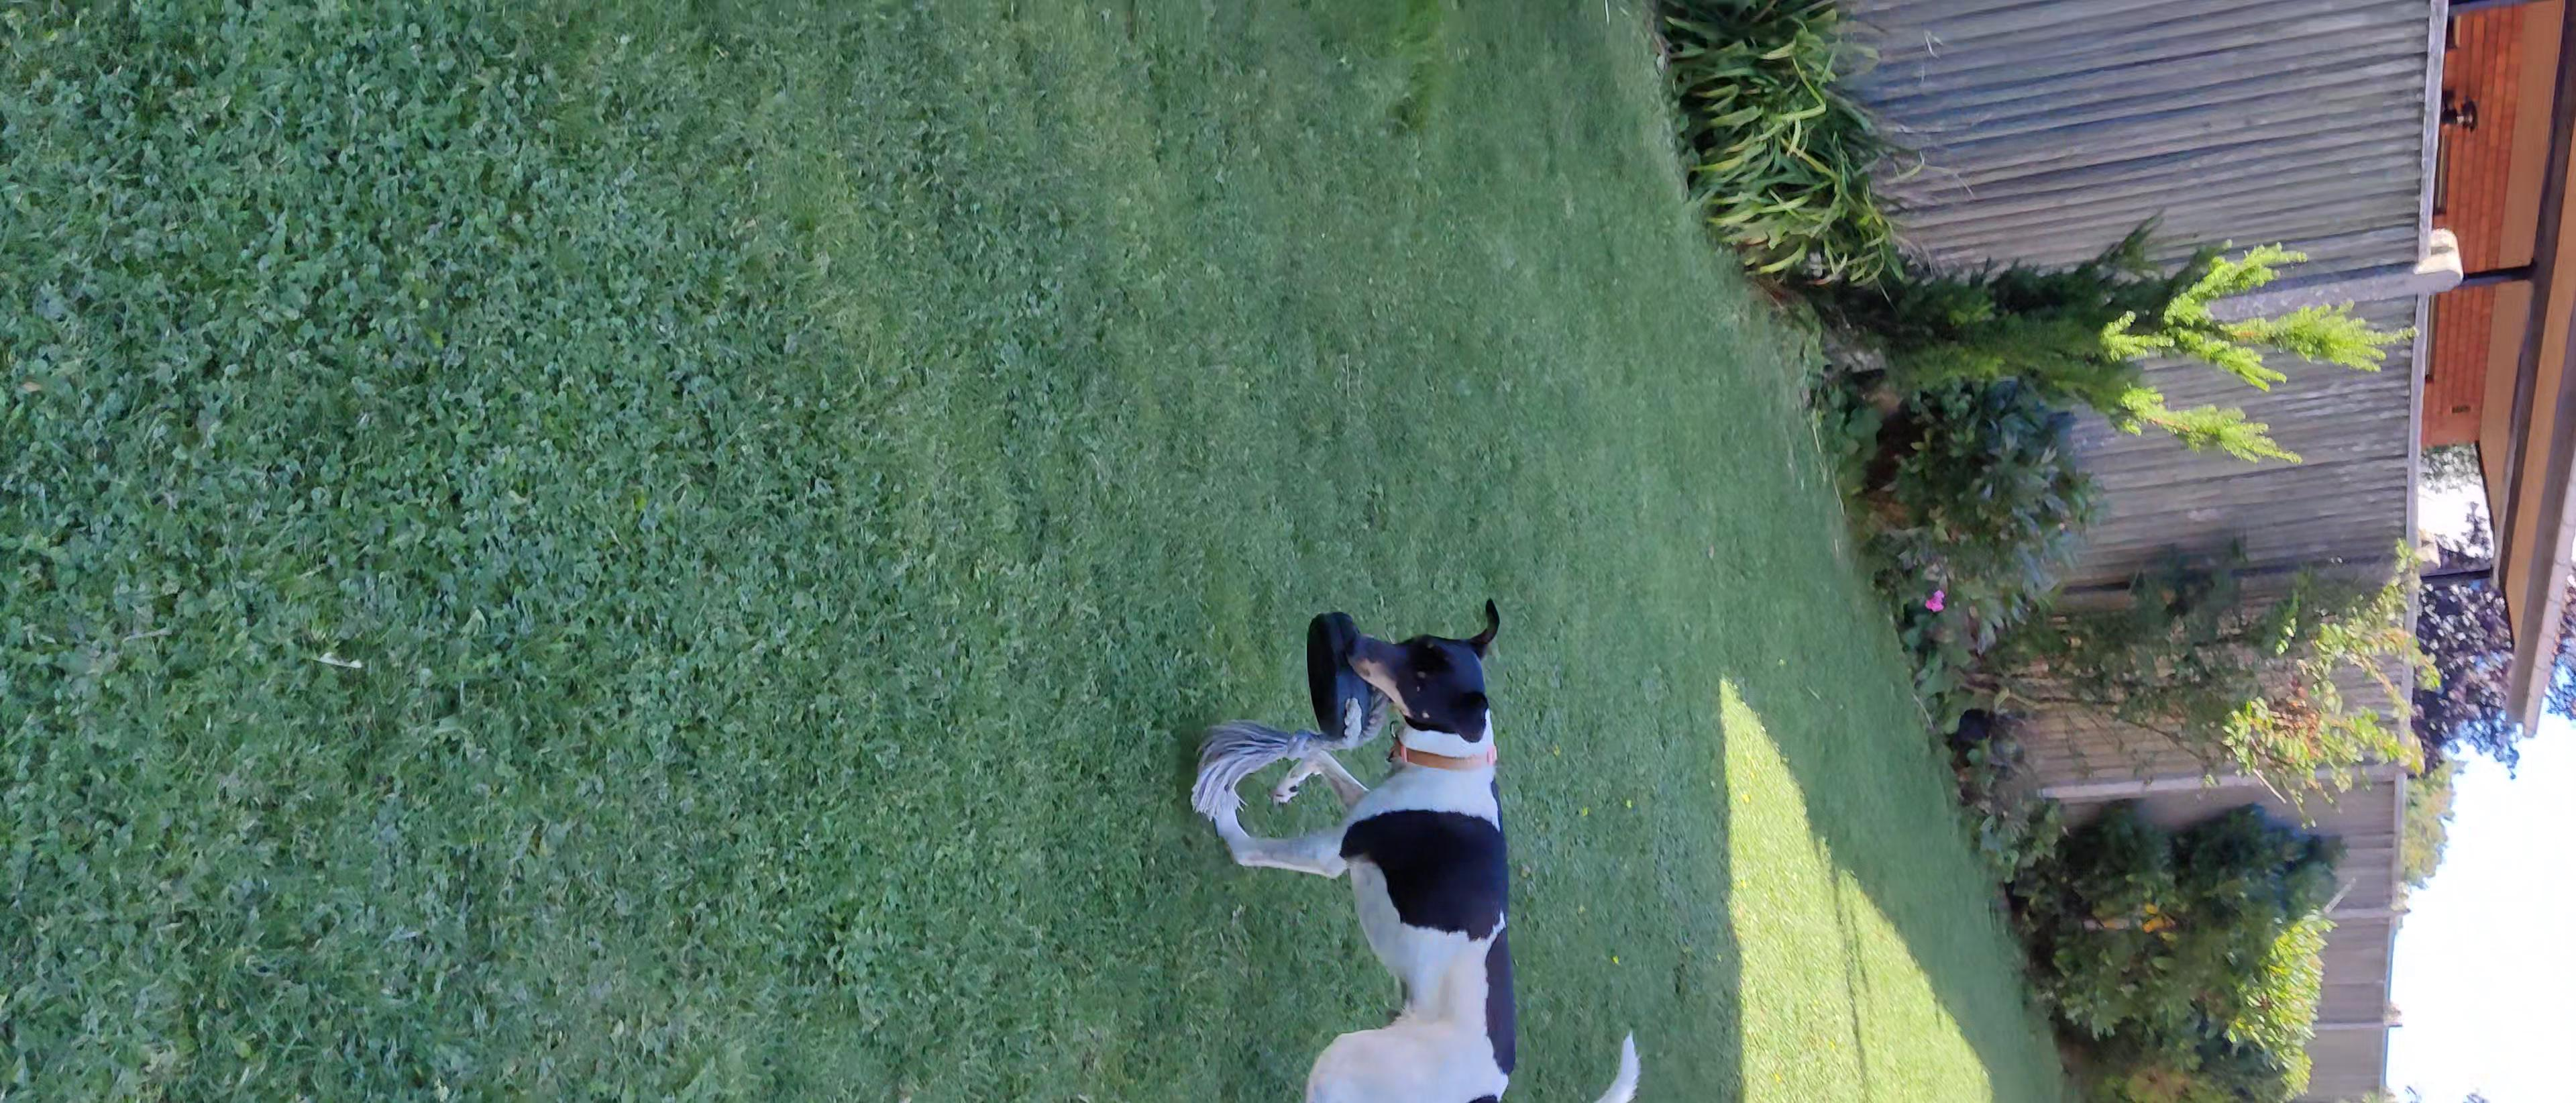Dog: (1201, 590, 1653, 1103)
